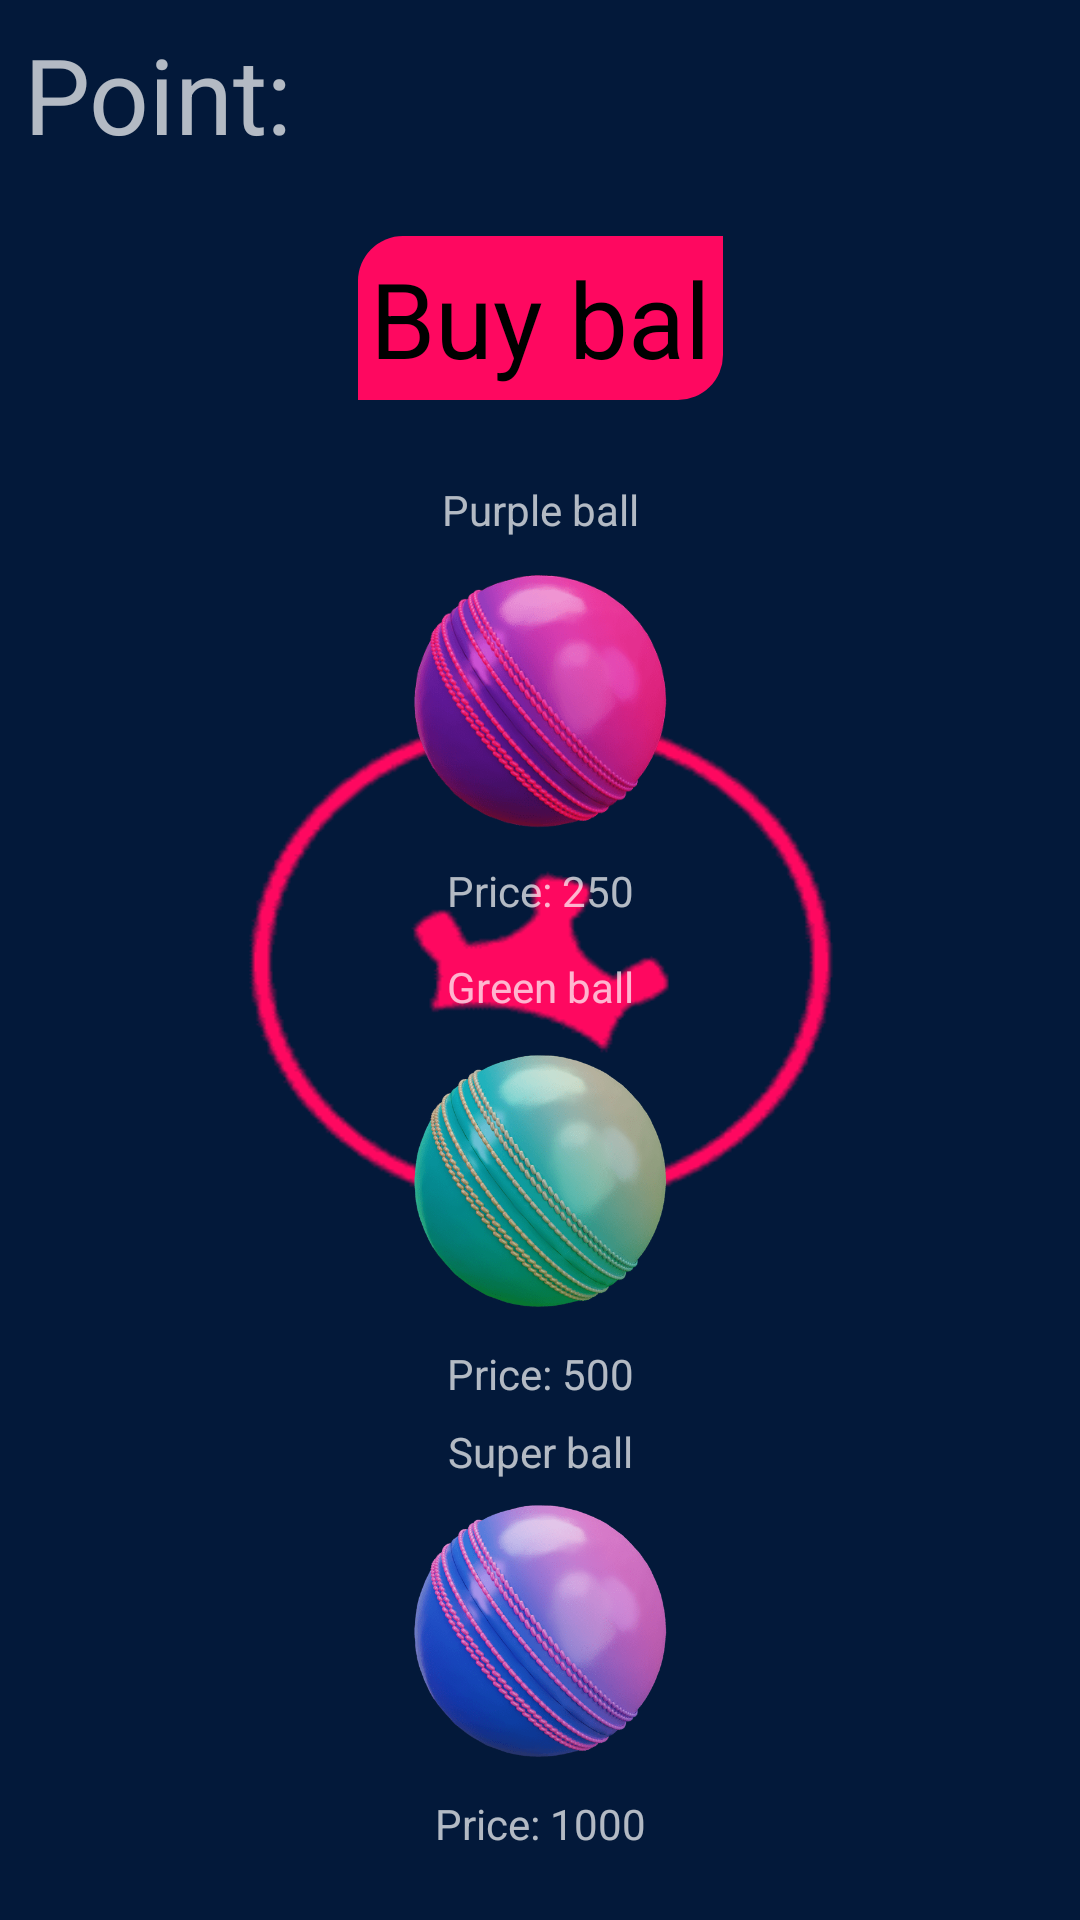

Icons on this 1080px×1920px Android screen, each with the point to tap as (x=x, y=y):
Cherry color bal: (x=540, y=701)
